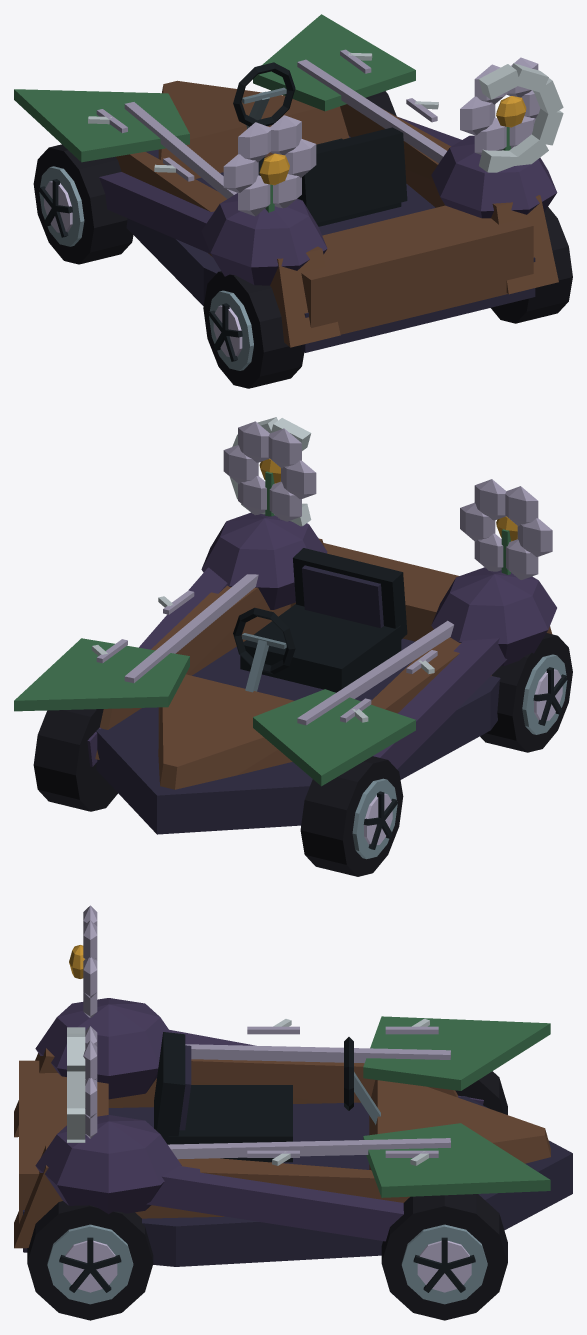
File: kart.glb
3 views of the same model, one above another, from view 1: azimuth 30°, elevation 25°; view 2: azimuth 150°, elevation 25°; view 3: azimuth 270°, elevation 25° (orthographic). The views are drawn at different scales.
Visible parts, largest first — view 1: identity-nature-nature-root-cradle-and-leaf-bow, identity-nature-motif-flowers, identity-nature-driver-cockpit, wheel-front-left, wheel-rear-left, identity-nature-motif-moon, wheel-rear-right, identity-nature-motif-runes; view 2: identity-nature-nature-root-cradle-and-leaf-bow, identity-nature-driver-cockpit, identity-nature-motif-flowers, wheel-front-left, wheel-rear-left, wheel-front-right, identity-nature-motif-runes, identity-nature-motif-moon; view 3: identity-nature-nature-root-cradle-and-leaf-bow, wheel-front-right, wheel-rear-right, identity-nature-driver-cockpit, identity-nature-motif-flowers, identity-nature-motif-runes, identity-nature-motif-moon, wheel-front-left.
Boxes of the visible parts, x1,y1,x2,y2 form: identity-nature-nature-root-cradle-and-leaf-bow: (14, 14, 558, 352); identity-nature-motif-flowers: (223, 57, 540, 216); identity-nature-driver-cockpit: (233, 62, 407, 226); wheel-front-left: (33, 144, 133, 264); wheel-rear-left: (203, 271, 304, 388); identity-nature-motif-moon: (478, 63, 563, 172); wheel-rear-right: (491, 207, 572, 323); identity-nature-motif-runes: (88, 49, 438, 181); identity-nature-nature-root-cradle-and-leaf-bow: (14, 512, 556, 834); identity-nature-driver-cockpit: (233, 548, 407, 692); identity-nature-motif-flowers: (223, 421, 552, 579); wheel-front-left: (300, 756, 403, 876); wheel-rear-left: (480, 633, 572, 752); wheel-front-right: (33, 709, 117, 811); identity-nature-motif-runes: (92, 590, 437, 722); identity-nature-motif-moon: (230, 417, 311, 526); identity-nature-nature-root-cradle-and-leaf-bow: (14, 998, 572, 1266); wheel-front-right: (381, 1194, 507, 1320); wheel-rear-right: (27, 1201, 153, 1320); identity-nature-driver-cockpit: (154, 1032, 380, 1162); identity-nature-motif-flowers: (69, 905, 97, 1138); identity-nature-motif-runes: (247, 1018, 438, 1165); identity-nature-motif-moon: (67, 1027, 85, 1142); wheel-front-left: (455, 1071, 507, 1114).
Bounding box in the file's own units: 2 × 1.46 × 2.75.
